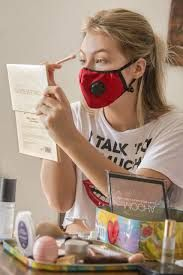with-mask: (76, 14, 154, 112)
